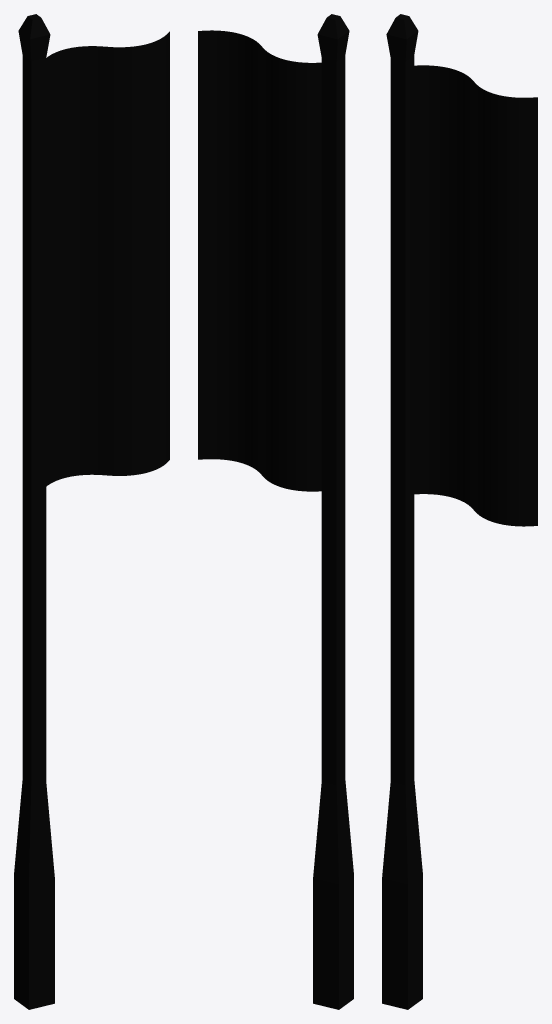
File: flagCheckers.glb
3 renders of one model, left to right at view 1: azimuth 30°, elevation 25°; view 2: azimuth 150°, elevation 25°; view 3: azimuth 330°, elevation 25°, orthographic.
Visible parts, largest first — view 1: Mesh flagCheckers; view 2: Mesh flagCheckers; view 3: Mesh flagCheckers.
Part boxes in pixels (<box>): Mesh flagCheckers: <box>14,14,169,1009</box>; Mesh flagCheckers: <box>198,14,353,1009</box>; Mesh flagCheckers: <box>382,14,537,1009</box>.
Size of the model in its own units: 0.1971 by 1.25 by 0.0352.
Materials: 1 (1 with a texture image).
